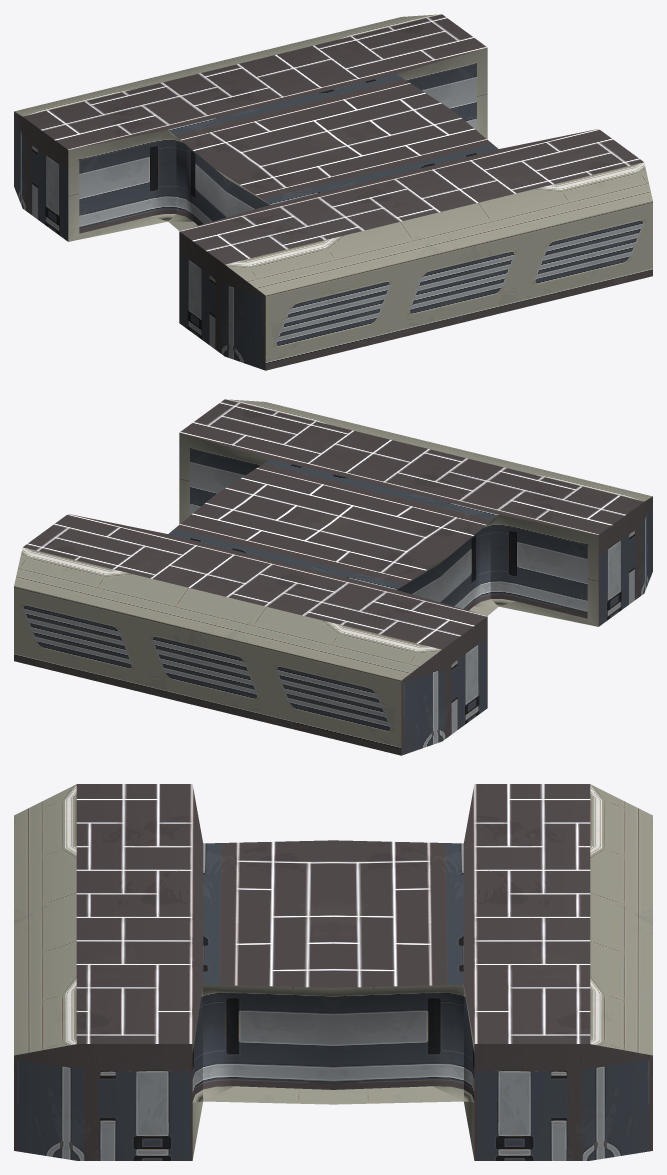
The model's file is KF_SM_XBuilding005.fbx.
The picture shows the model from 3 angles, top to bottom: view 1: azimuth 30°, elevation 25°; view 2: azimuth 150°, elevation 25°; view 3: azimuth 270°, elevation 25°; orthographic projection. The views are drawn at different scales.
Parts seen in each view (by area): view 1: KF_SM_XBuilding005; view 2: KF_SM_XBuilding005; view 3: KF_SM_XBuilding005.
Boxes of the visible parts, x1,y1,x2,y2 form: KF_SM_XBuilding005: (14, 14, 652, 370); KF_SM_XBuilding005: (14, 399, 652, 755); KF_SM_XBuilding005: (14, 784, 652, 1160).
Size of the model in its own units: 7031 by 1472 by 7304.
